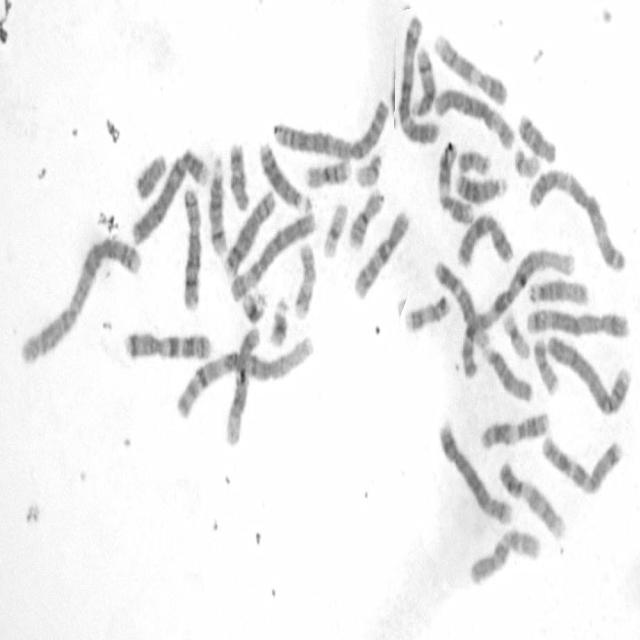A1: (456, 243, 576, 384), (173, 329, 315, 423)
A2: (17, 230, 143, 367), (270, 95, 390, 161)
A3: (526, 164, 628, 274), (395, 12, 440, 146)
B4: (128, 143, 210, 247), (544, 329, 631, 417)
B5: (435, 418, 514, 527), (523, 303, 632, 340)
C10: (351, 206, 411, 302), (466, 522, 542, 588)
C11: (436, 137, 475, 225), (478, 408, 550, 451)
C12: (430, 256, 490, 349), (221, 321, 261, 446)
C6: (226, 206, 318, 304), (430, 83, 516, 152)
C7: (538, 430, 623, 496), (120, 326, 213, 362)
C8: (221, 186, 277, 277), (178, 182, 203, 314)
C9: (432, 29, 508, 107), (497, 459, 566, 542)
D13: (256, 138, 310, 215), (454, 169, 508, 205)
D14: (206, 153, 228, 257), (408, 40, 436, 120)
D15: (480, 342, 534, 404), (525, 274, 590, 308)
E16: (345, 187, 385, 251), (302, 154, 352, 190)
E17: (291, 240, 318, 322), (402, 290, 451, 334)
E18: (516, 110, 557, 164), (227, 137, 251, 212)
F19: (320, 198, 349, 259), (500, 308, 531, 360)
F20: (531, 332, 561, 396), (455, 145, 493, 177)
G21: (266, 293, 291, 349), (240, 286, 268, 327)
G22: (353, 151, 384, 190), (511, 144, 542, 179)
X: (454, 208, 515, 270)
Y: (132, 148, 168, 202)
